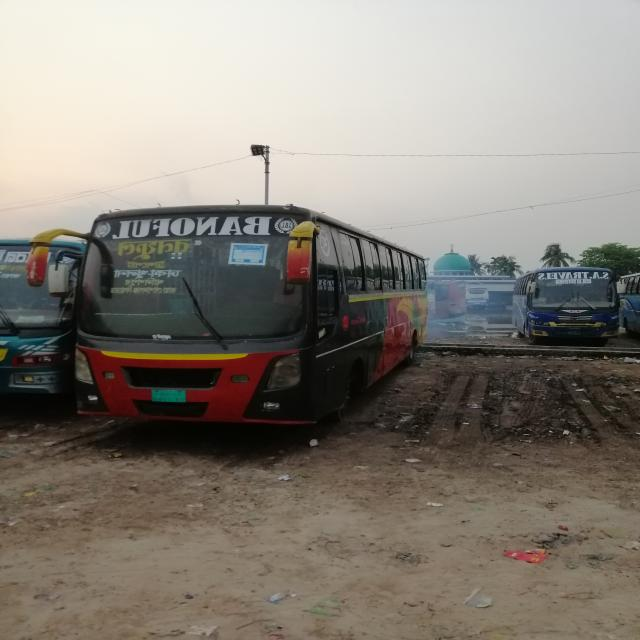Bus: (75, 208, 432, 433), (521, 262, 623, 348)
